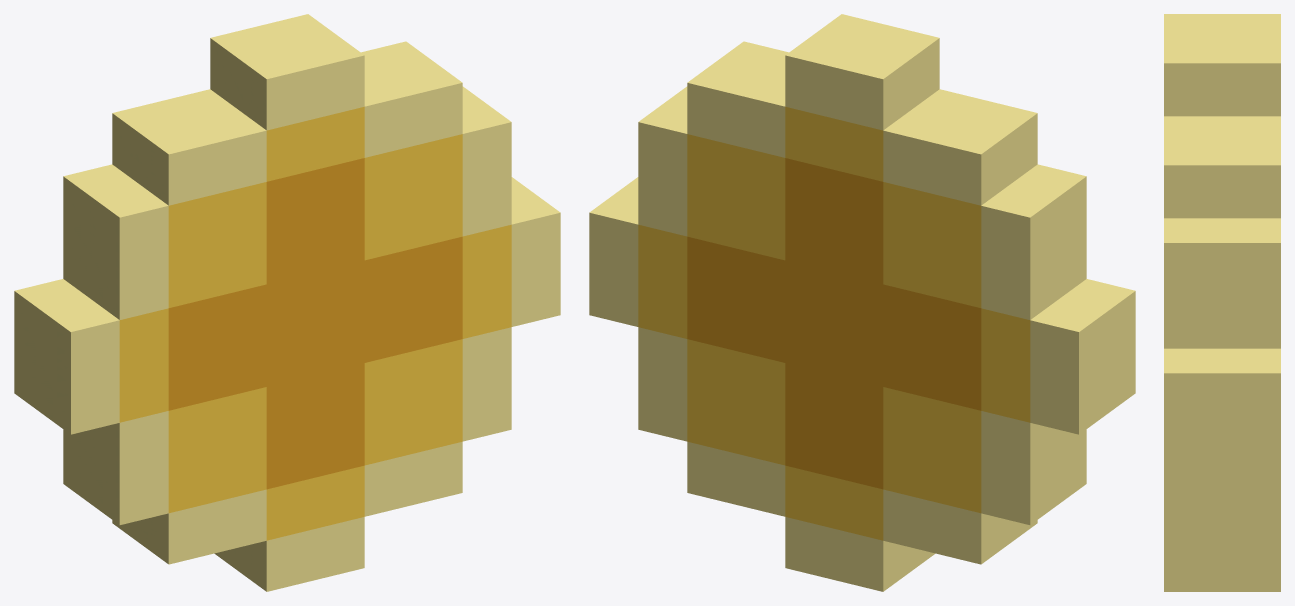
The model's file is doubloon.glb.
The picture shows the model from 3 angles, left to right: view 1: azimuth 30°, elevation 25°; view 2: azimuth 150°, elevation 25°; view 3: azimuth 270°, elevation 25°; orthographic projection. The views are drawn at different scales.
Visible parts, largest first — view 1: coin; view 2: coin; view 3: coin.
Boxes of the visible parts, x1,y1,x2,y2 form: coin: (14,14,560,591); coin: (589,14,1135,591); coin: (1164,14,1280,591).
Size of the model in its own units: 0.625 by 0.625 by 0.125.
1 material, 1 textured.
